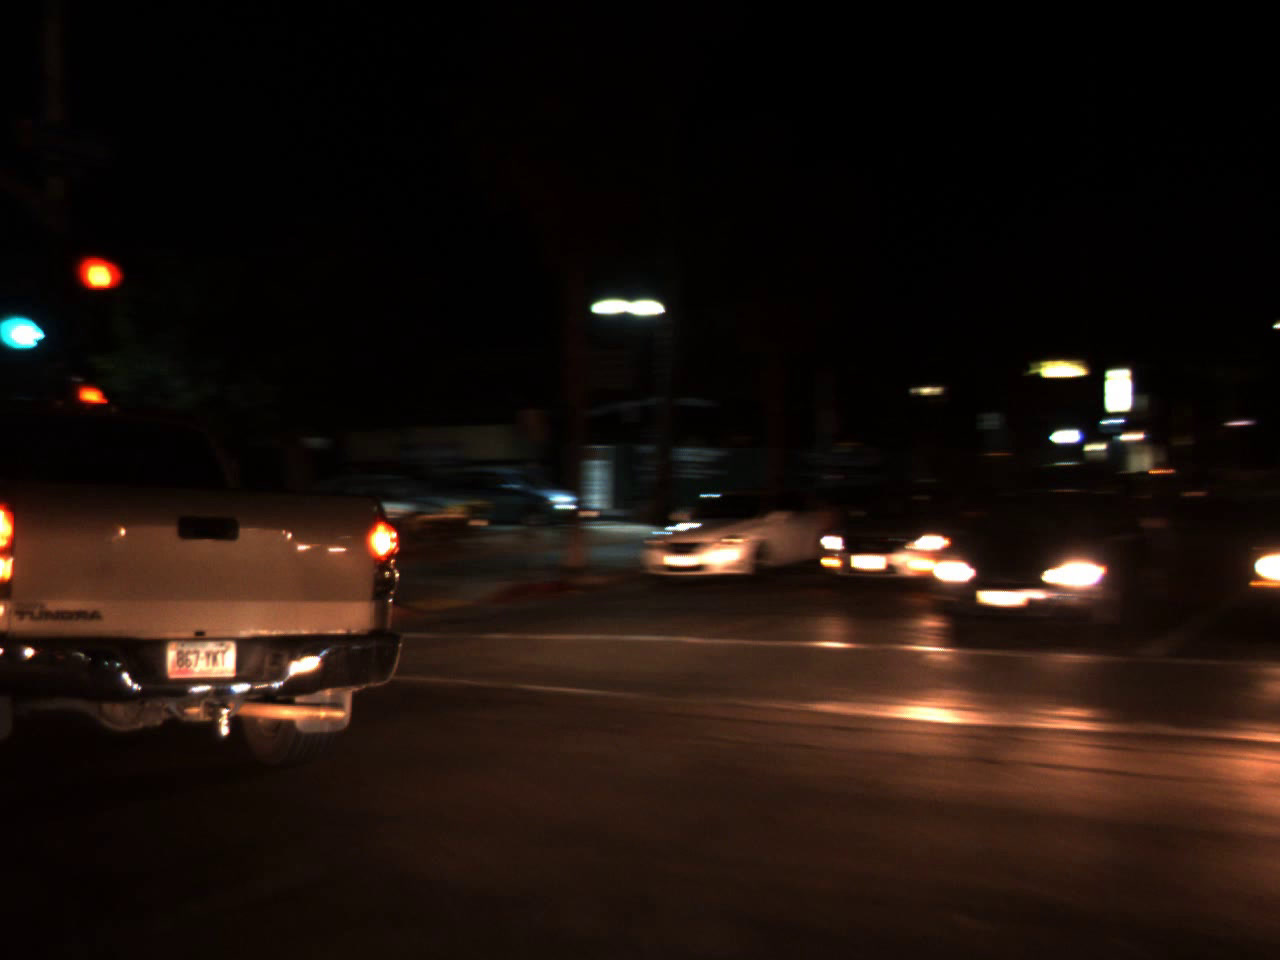go: (0, 270, 62, 366)
